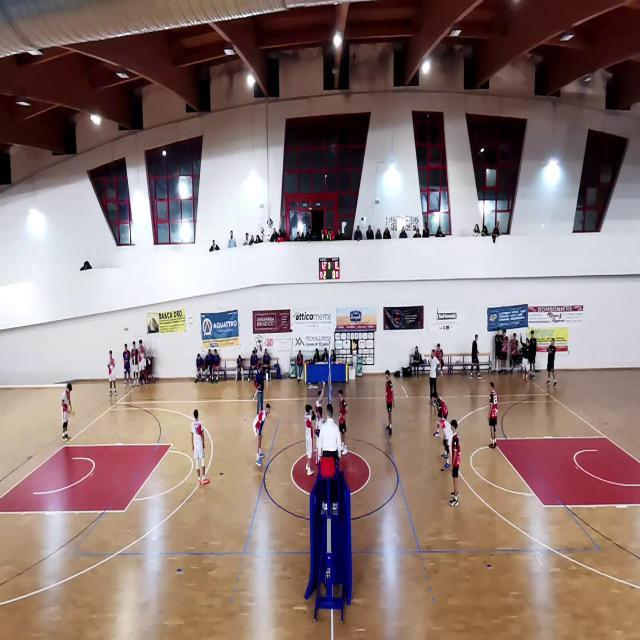volleyball: (70, 408, 75, 416)
